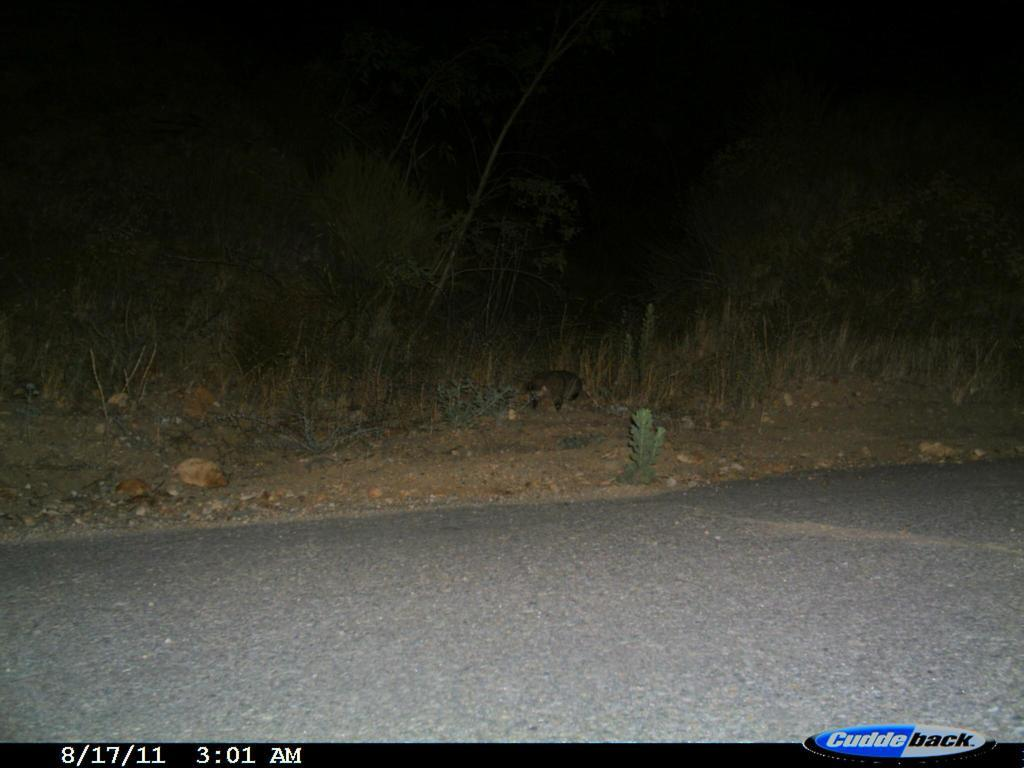badger: (518, 360, 594, 415)
